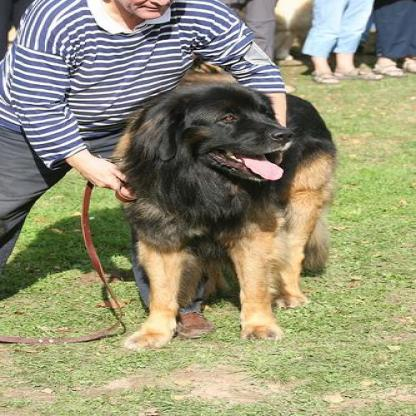Leonberg: (105, 74, 343, 354)
